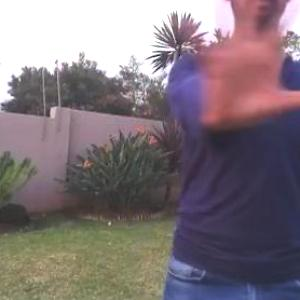follow_hand: (174, 0, 299, 133)
